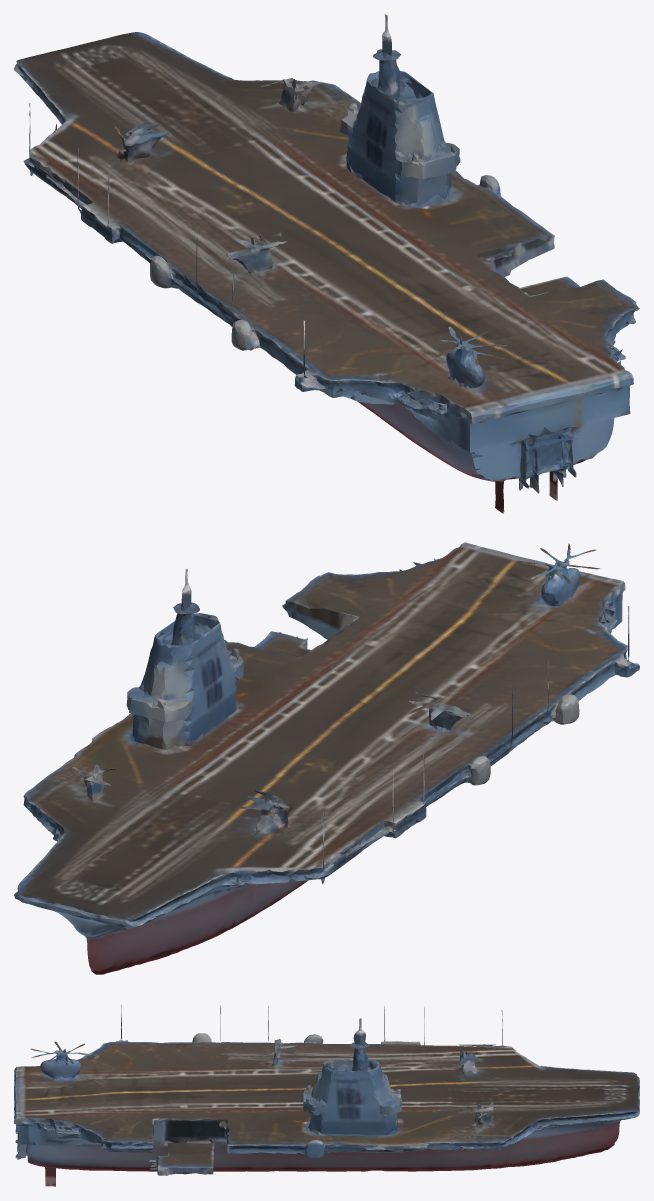
The model's file is Fujian_Aircraft_Carrier_AI_Rodin_before_ship_z_neg90.glb.
3 renders of one model, top to bottom at view 1: azimuth 30°, elevation 25°; view 2: azimuth 150°, elevation 25°; view 3: azimuth 270°, elevation 25°, orthographic. The views are drawn at different scales.
Visible parts, largest first — view 1: Fujian_Aircraft_Carrier; view 2: Fujian_Aircraft_Carrier; view 3: Fujian_Aircraft_Carrier.
Boxes of the visible parts, x1,y1,x2,y2 form: Fujian_Aircraft_Carrier: (14, 14, 639, 513); Fujian_Aircraft_Carrier: (14, 542, 639, 974); Fujian_Aircraft_Carrier: (14, 1004, 639, 1186).
Size of the model in its own units: 0.7938 by 0.6364 by 1.89.
Materials: 1 (1 with a texture image).
